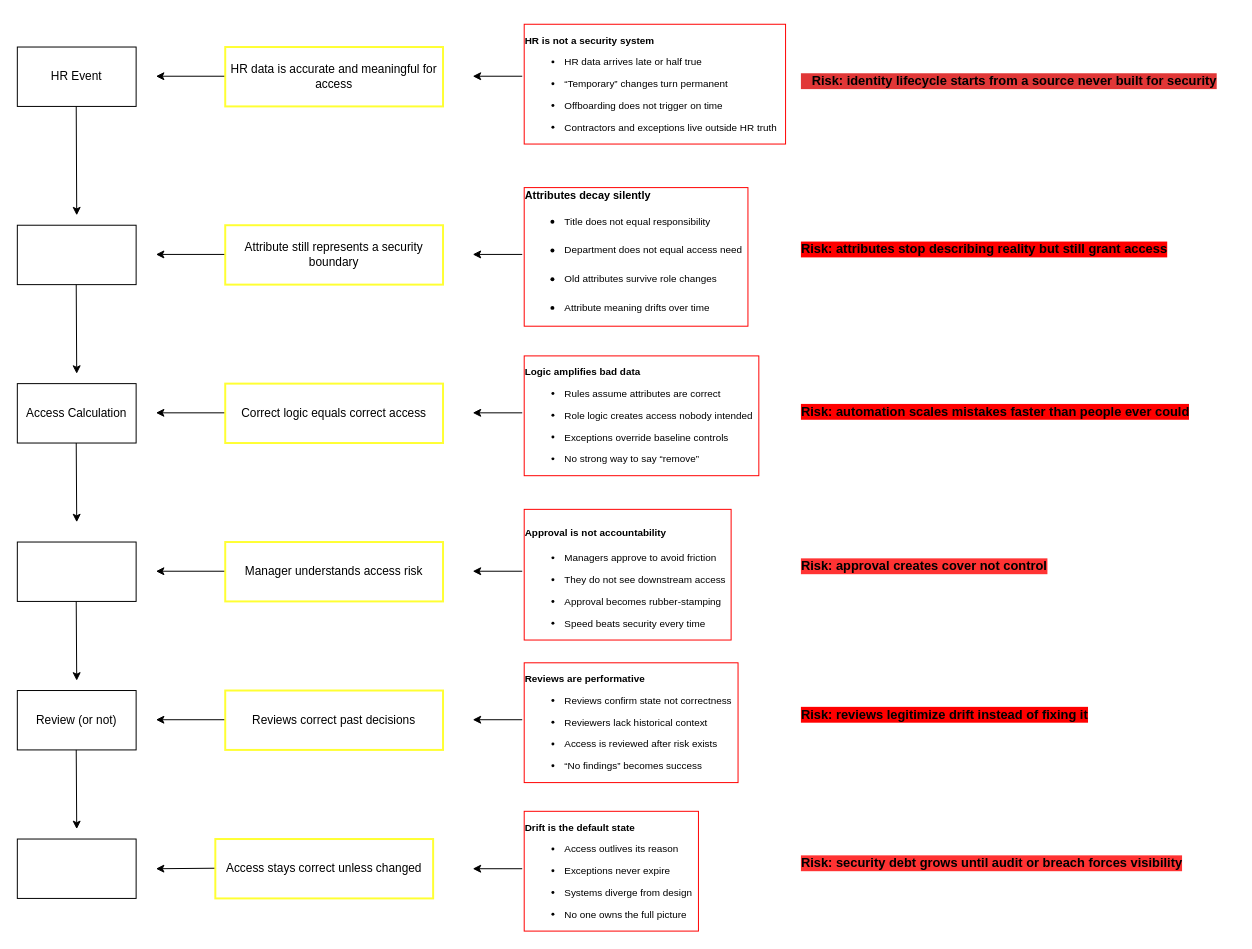
Image size: 1252x949. Some labels were removed from this diagram. Each missing label, with the centre of its shape:
Attribute update: pixel 76 254
Drift: pixel 76 868
Manager Approval: pixel 76 571
